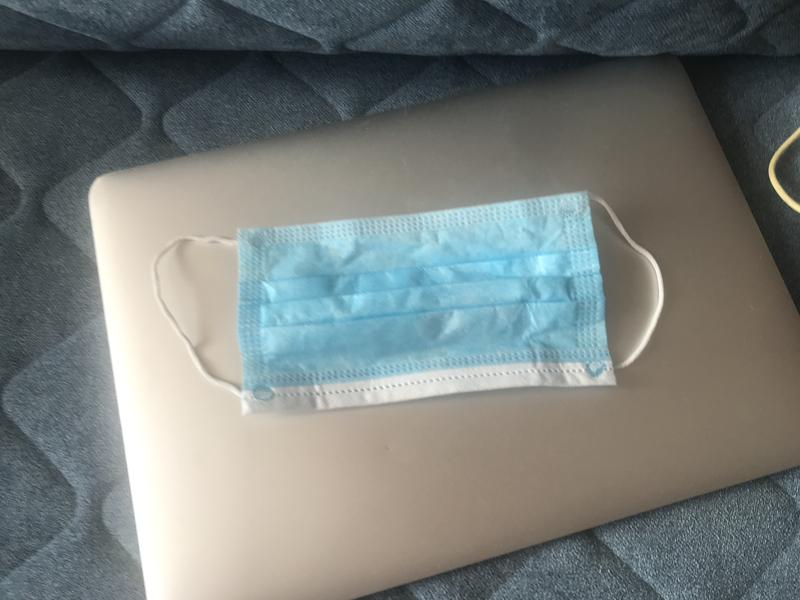medical_mask: (153, 192, 664, 413)
